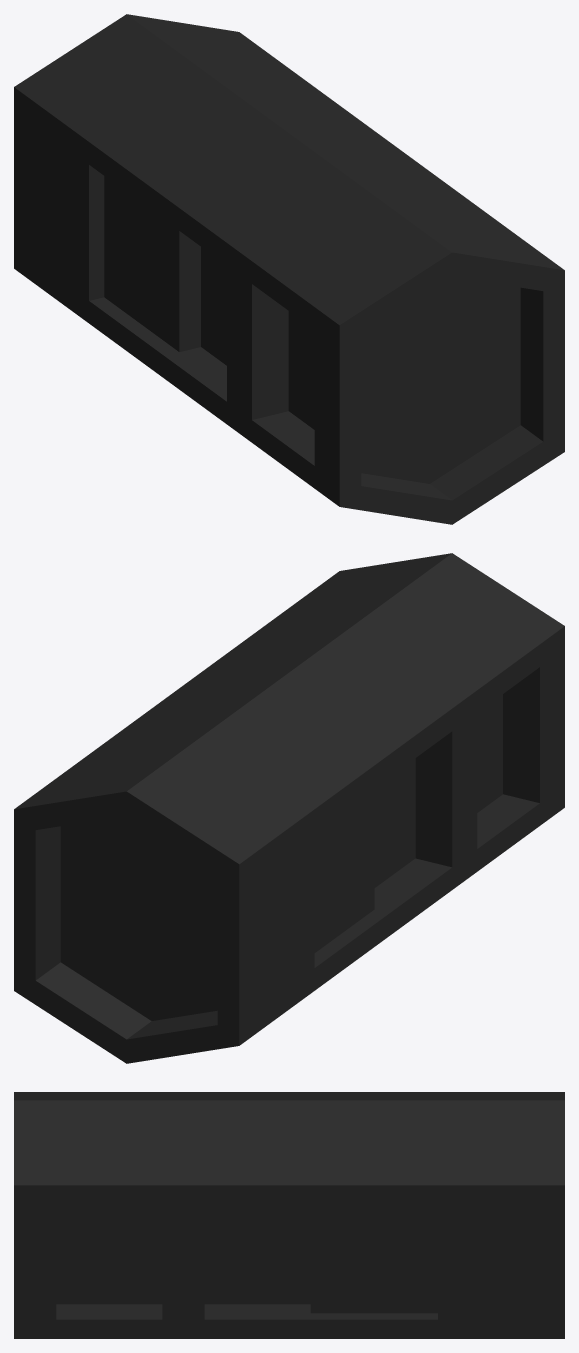
File: Muzzle_Brake_A.fbx
3 renders of one model, top to bottom at view 1: azimuth 30°, elevation 25°; view 2: azimuth 150°, elevation 25°; view 3: azimuth 270°, elevation 25°, orthographic. The views are drawn at different scales.
Visible parts, largest first — view 1: Muzzle_Brake_A; view 2: Muzzle_Brake_A; view 3: Muzzle_Brake_A.
Part boxes in pixels (<box>): Muzzle_Brake_A: <box>14,14,564,524</box>; Muzzle_Brake_A: <box>14,553,564,1063</box>; Muzzle_Brake_A: <box>14,1092,564,1338</box>.
Bounding box in the file's own units: 0.1039 × 0.12 × 0.26.
